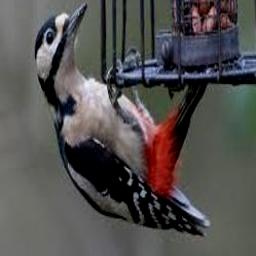Woodpecker: (34, 3, 210, 237)
